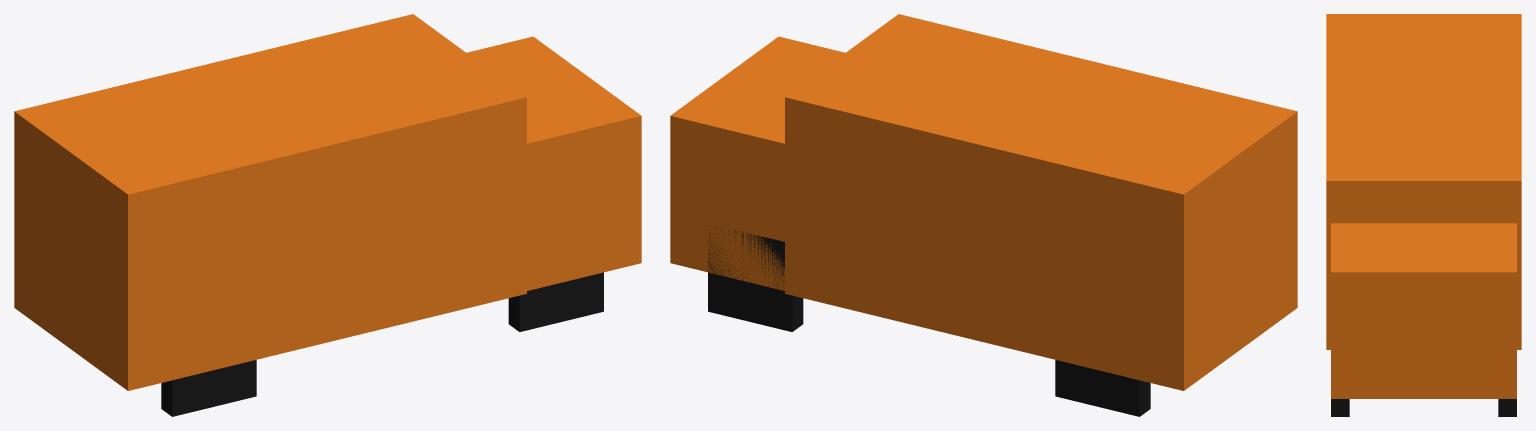
File: blk_vehicle_van.glb
The picture shows the model from 3 angles, left to right: view 1: azimuth 30°, elevation 25°; view 2: azimuth 150°, elevation 25°; view 3: azimuth 270°, elevation 25°; orthographic projection. The views are drawn at different scales.
Visible parts, largest first — view 1: blk_vehicle_van-col; view 2: blk_vehicle_van-col; view 3: blk_vehicle_van-col.
Boxes of the visible parts, x1=… form: blk_vehicle_van-col: x1=14, y1=14, x2=641, y2=416; blk_vehicle_van-col: x1=670, y1=14, x2=1297, y2=416; blk_vehicle_van-col: x1=1326, y1=14, x2=1521, y2=416.
Bounding box in the file's own units: 5.5 × 2.4 × 2.1.
